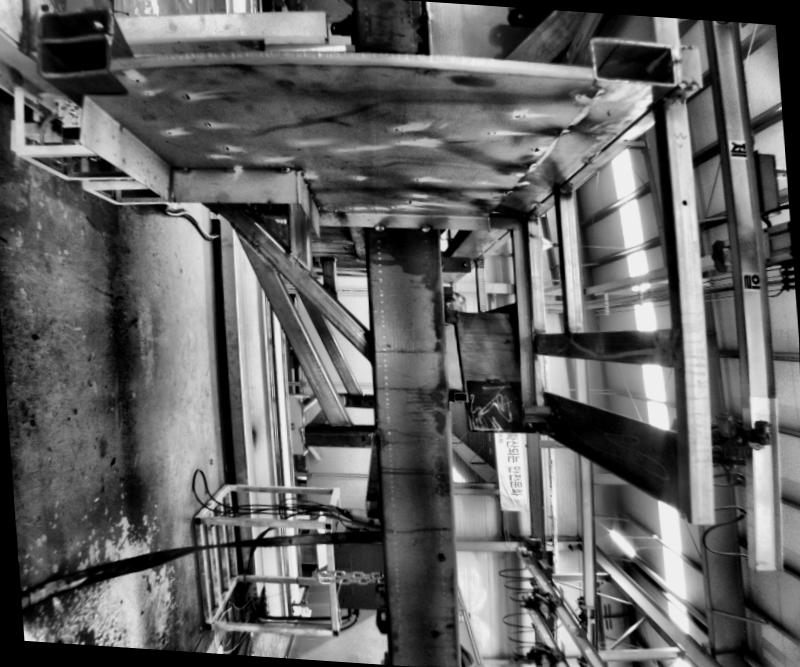hole: (677, 197, 688, 209), (434, 552, 440, 560), (632, 346, 637, 352), (357, 437, 362, 442)
welding: (214, 162, 240, 178), (170, 161, 190, 175), (415, 223, 432, 234), (271, 164, 288, 174), (370, 222, 382, 234)
